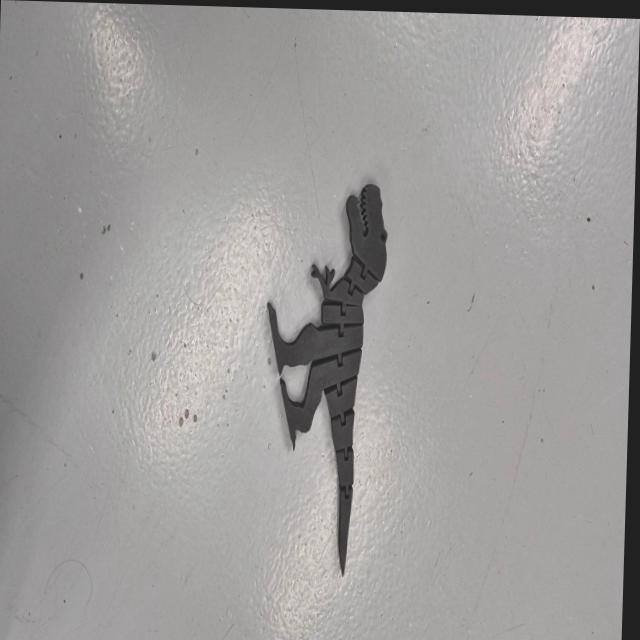dino: (257, 180, 389, 580)
